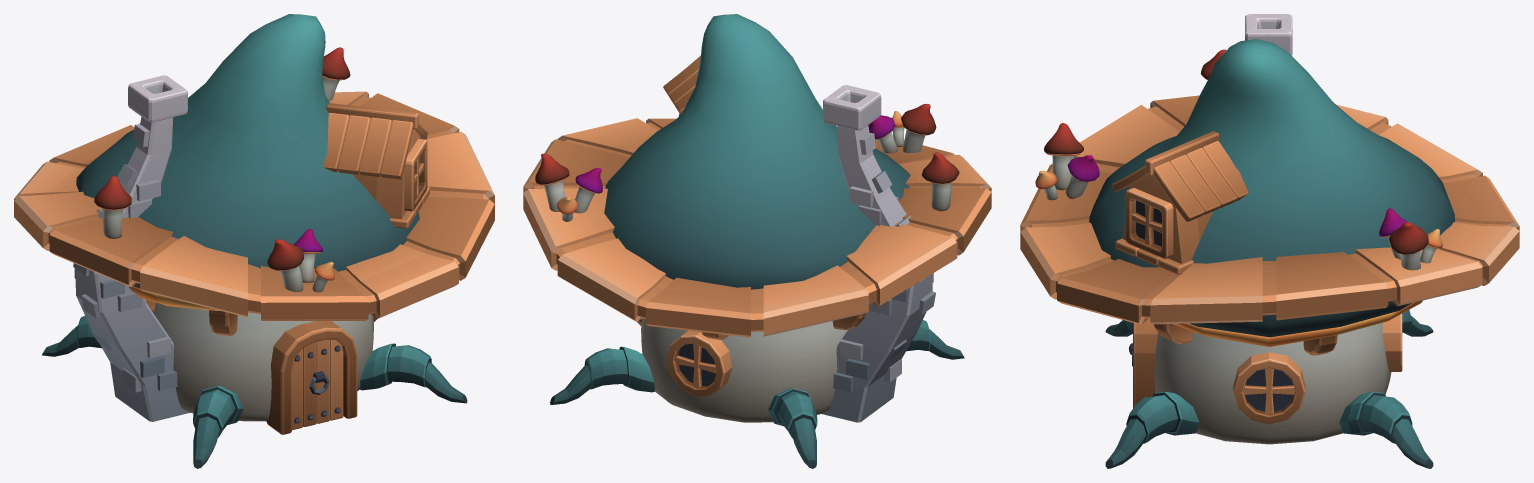
File: mt_house10.fbx
The picture shows the model from 3 angles, left to right: view 1: azimuth 30°, elevation 25°; view 2: azimuth 150°, elevation 25°; view 3: azimuth 270°, elevation 25°; orthographic projection. The views are drawn at different scales.
Visible parts, largest first — view 1: h10; view 2: h10; view 3: h10.
Boxes of the visible parts, box(x1,y1,x2,y2) form: h10: box(14, 14, 494, 468); h10: box(523, 14, 991, 468); h10: box(1020, 14, 1519, 468).
Size of the model in its own units: 910 by 753 by 910.
